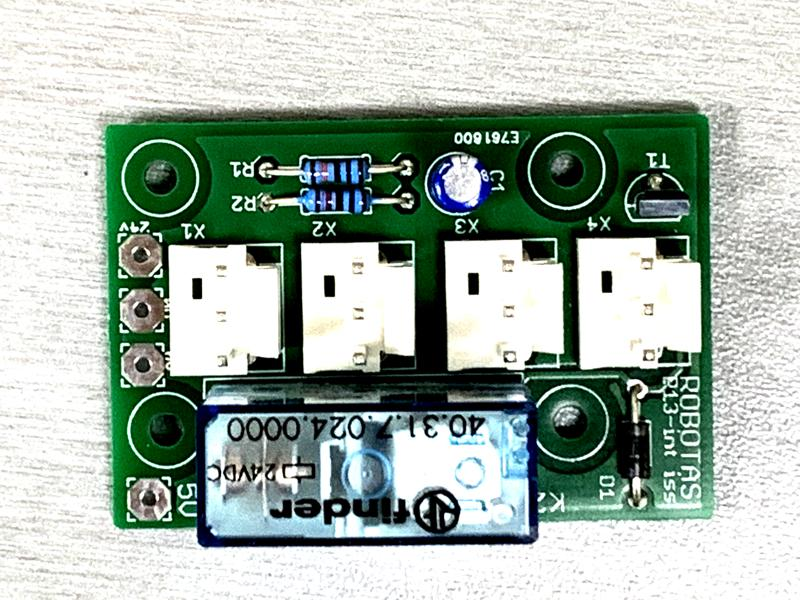Capacitor: (424, 150, 493, 214)
Diode: (619, 421, 651, 483)
Resistor: (292, 156, 376, 184), (299, 187, 372, 217)
